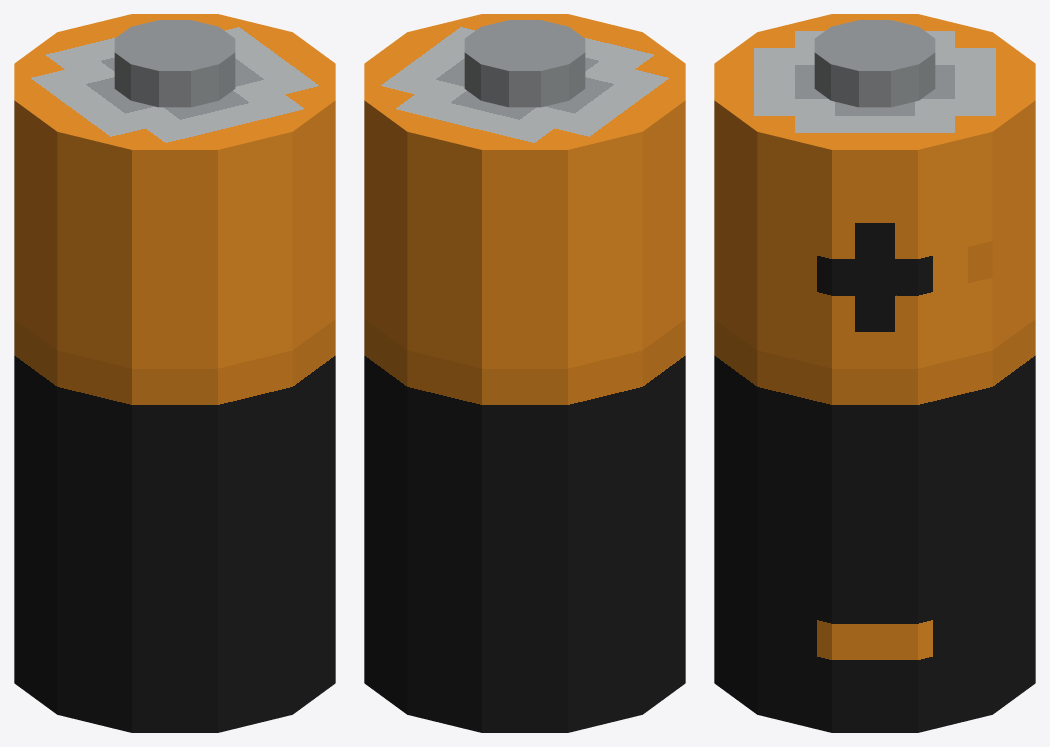
File: Battery.obj
3 renders of one model, left to right at view 1: azimuth 30°, elevation 25°; view 2: azimuth 150°, elevation 25°; view 3: azimuth 270°, elevation 25°, orthographic.
Parts seen in each view (by area): view 1: body, cap; view 2: body, cap; view 3: body, cap.
Part boxes in pixels (<box>): body: <box>14,14,335,732</box>; cap: <box>114,20,235,107</box>; body: <box>364,14,685,732</box>; cap: <box>464,20,585,107</box>; body: <box>714,14,1035,732</box>; cap: <box>814,20,935,107</box>.
Bounding box in the file's own units: 0.5 × 1.06 × 0.5.
1 material, 1 textured.
